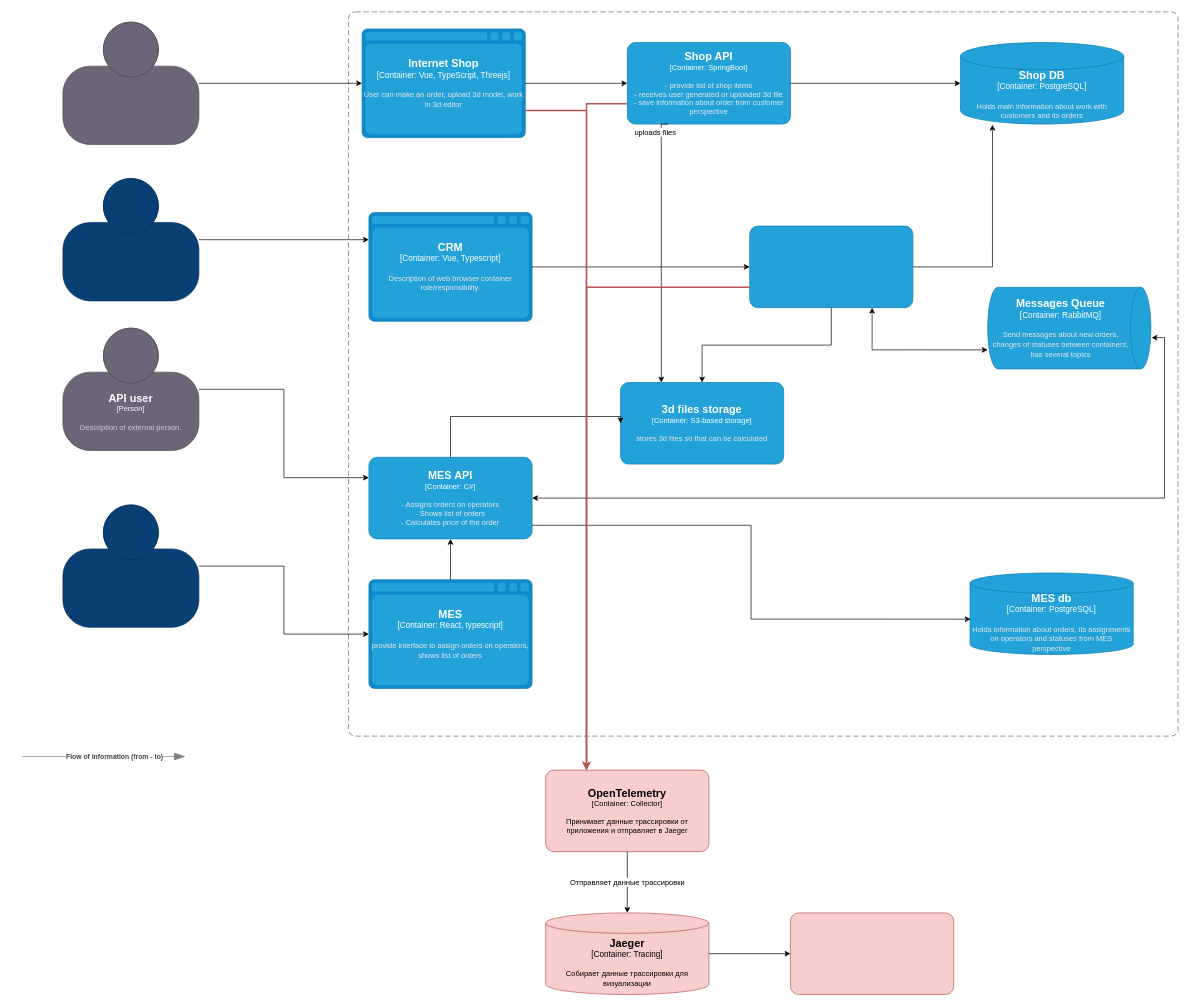
Image size: 1190x1006. Some labels were removed from this diagram. Here are the shapes that lost their labels. From the top down, the box of each, then its label:
(62, 21, 199, 144): Customer [Person] Description of external person.
(62, 178, 199, 301): Seller [Person] Operates with order, confirms manufacturing for the user
(749, 225, 913, 308): CRM API [Container: SpringBoot] Description of container role/responsibility.
(348, 11, 1178, 736): Jewerly Store System [Software System]
(62, 504, 199, 627): Operator [Person] Takes order in work, manufactures jewerly
(790, 912, 954, 995): Jaeger UI [Container: WEB] веб-интерфейс для поиска и просмотров трейсов
